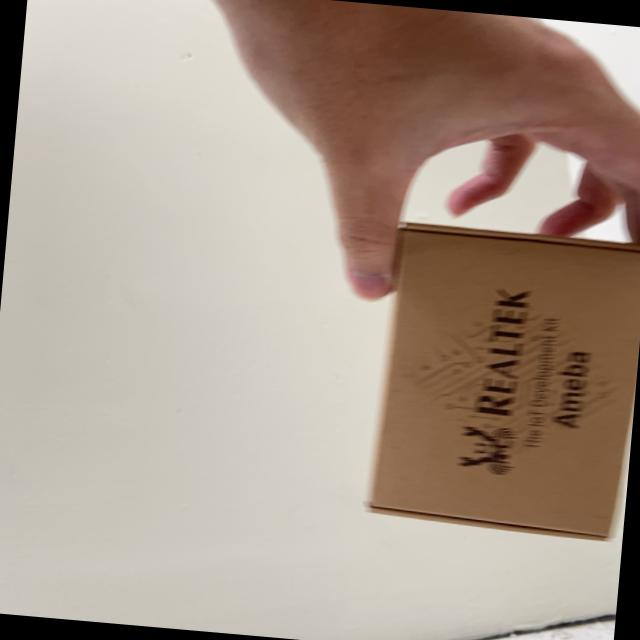box: (353, 202, 640, 558)
